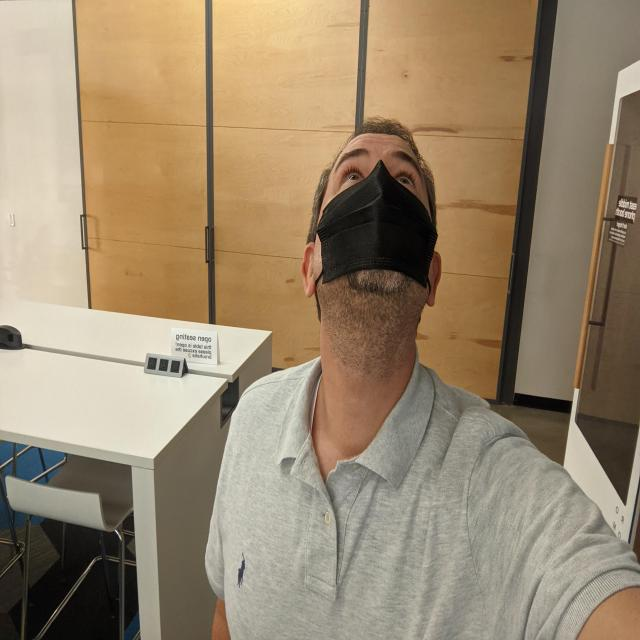face: (312, 134, 437, 301)
